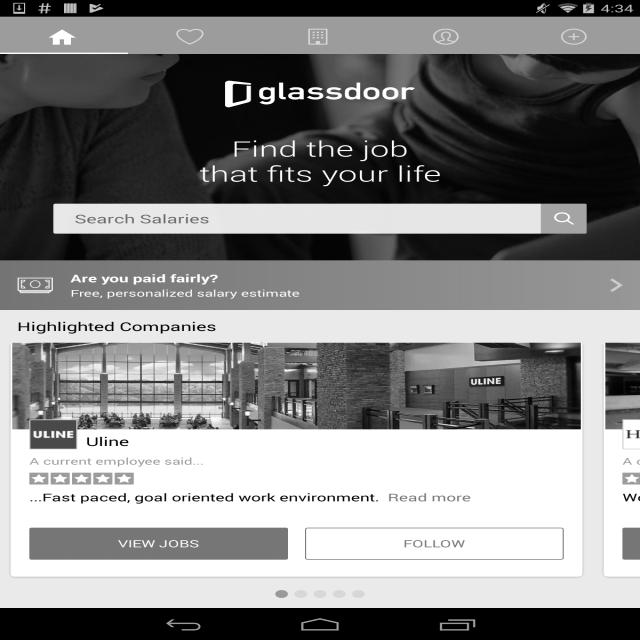Button: (29, 528, 288, 560), (305, 528, 564, 560), (622, 528, 640, 560)
ImageView: (0, 54, 640, 260), (12, 343, 581, 429), (225, 81, 415, 107), (605, 343, 640, 429), (29, 420, 78, 450), (540, 204, 586, 234), (47, 25, 81, 46), (175, 25, 209, 46), (303, 25, 337, 46), (431, 25, 465, 46), (559, 25, 593, 46), (17, 278, 53, 294), (622, 420, 640, 450), (310, 588, 330, 600), (272, 588, 291, 600), (329, 588, 348, 600), (349, 588, 368, 600), (292, 588, 310, 600), (610, 278, 623, 292)
RatingBar: (29, 472, 136, 484), (622, 472, 640, 484)
TextView: (53, 134, 587, 188), (29, 490, 564, 517), (53, 210, 587, 227), (0, 318, 217, 334), (70, 287, 300, 299), (29, 455, 204, 467), (70, 271, 219, 285), (86, 433, 129, 449), (622, 490, 640, 517), (622, 455, 640, 467)
